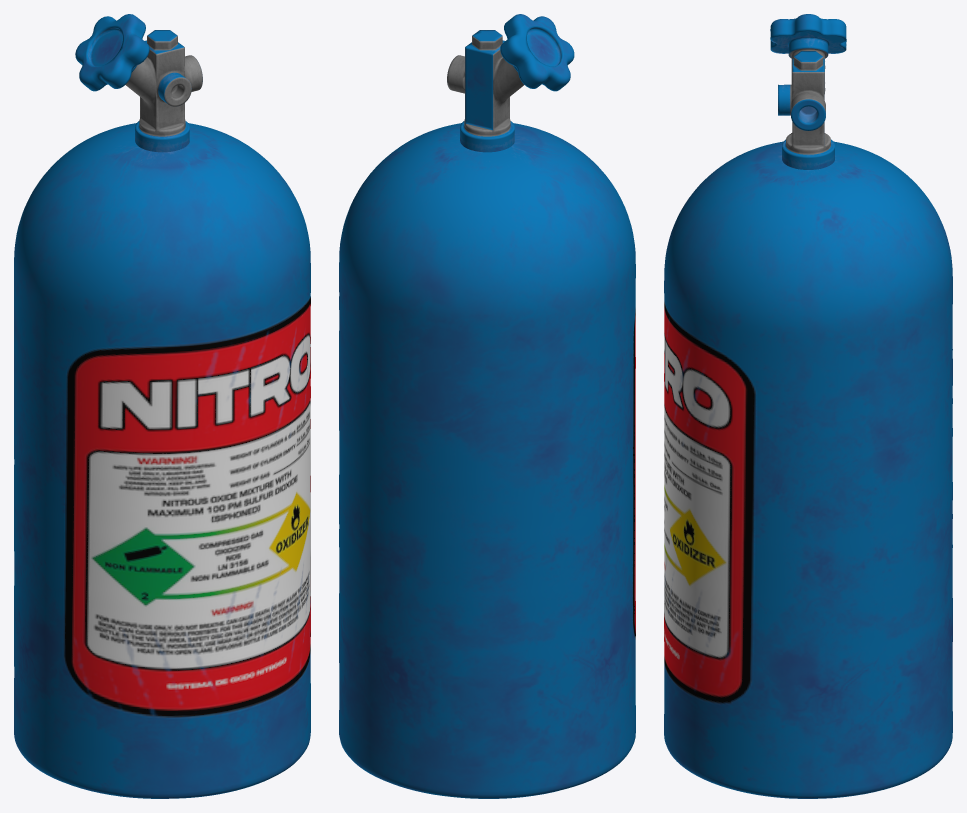
Rendered from nitro.glb.
The picture shows the model from 3 angles, left to right: view 1: azimuth 30°, elevation 25°; view 2: azimuth 150°, elevation 25°; view 3: azimuth 270°, elevation 25°; orthographic projection. The views are drawn at different scales.
Parts seen in each view (by area): view 1: Object_3, Object_2; view 2: Object_3, Object_2; view 3: Object_3, Object_2.
Boxes of the visible parts, x1,y1,x2,y2 form: Object_3: [14, 123, 310, 798]; Object_2: [75, 14, 202, 152]; Object_3: [339, 123, 635, 798]; Object_2: [447, 14, 574, 152]; Object_3: [664, 141, 952, 798]; Object_2: [770, 14, 846, 169].
Size of the model in its own units: 1.61 by 4.37 by 1.61.
Materials: 1 (1 with a texture image).
